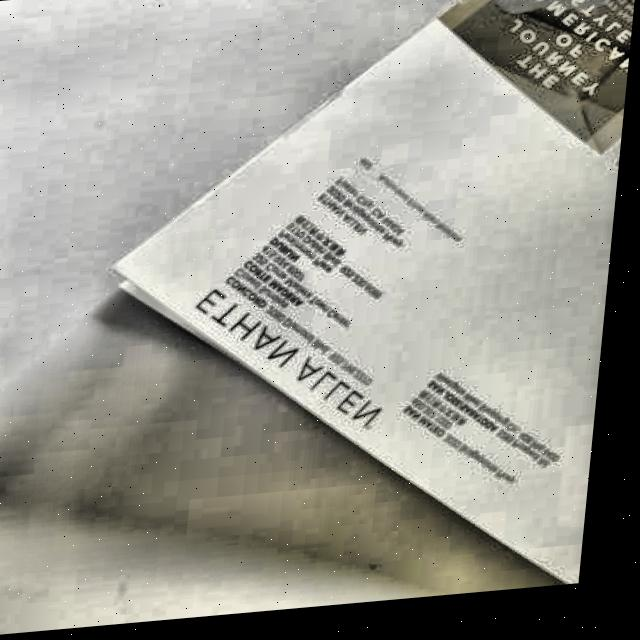paper: (72, 0, 640, 628)
